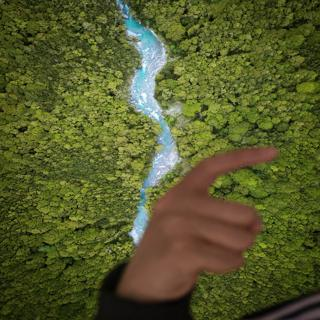WHY: (115, 134, 283, 303)
